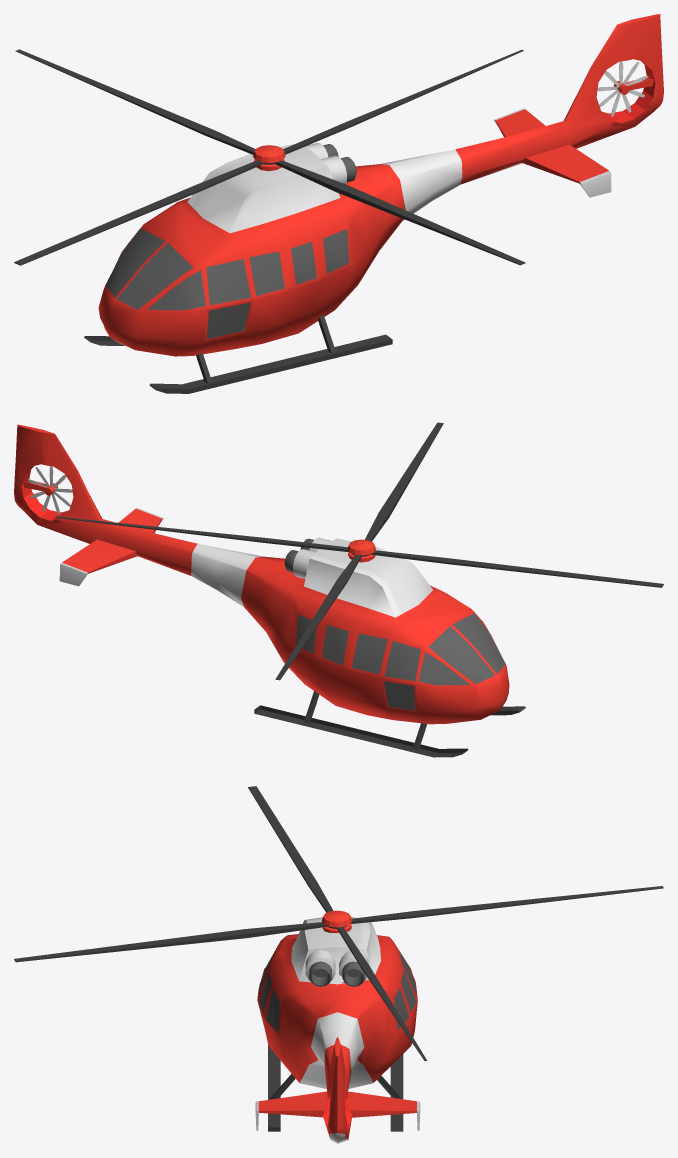
The model's file is Lowpoly_Helicopter1.fbx.
3 renders of one model, top to bottom at view 1: azimuth 30°, elevation 25°; view 2: azimuth 150°, elevation 25°; view 3: azimuth 270°, elevation 25°, orthographic. The views are drawn at different scales.
Visible parts, largest first — view 1: Copter, Propeller_2, Legs, Propeller, Cylinder; view 2: Copter, Propeller_2, Legs, Propeller, Cylinder; view 3: Copter, Propeller_2, Legs.
Part boxes in pixels (x1,y1,x2,y2): Copter: (98, 14, 663, 356); Propeller_2: (14, 49, 525, 265); Legs: (84, 315, 392, 393); Propeller: (597, 61, 647, 116); Cylinder: (602, 61, 655, 123); Copter: (14, 424, 509, 724); Propeller_2: (55, 422, 663, 680); Legs: (254, 690, 525, 757); Propeller: (28, 466, 72, 515); Cylinder: (21, 466, 68, 520); Copter: (255, 917, 420, 1143); Propeller_2: (14, 786, 663, 1060); Legs: (268, 1045, 403, 1131).
Size of the model in its own units: 4824 by 1521 by 4172.
1 material, 1 textured.
